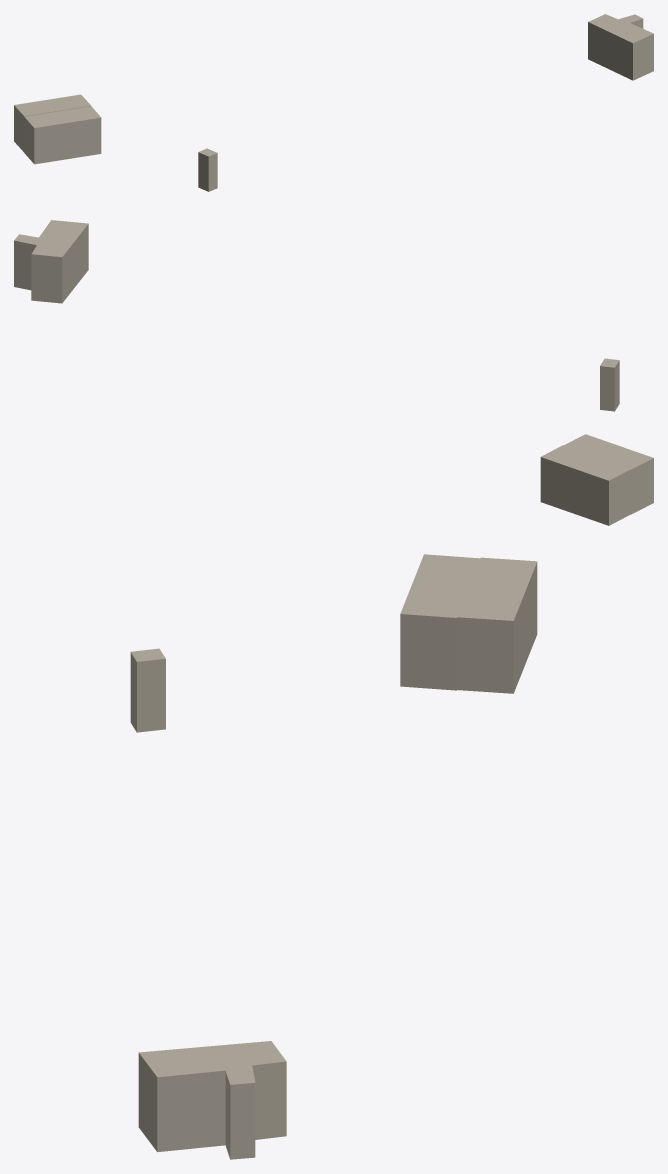
Rendered from kalkara_68_26_collision.glb.
3 renders of one model, top to bottom at view 1: azimuth 30°, elevation 25°; view 2: azimuth 150°, elevation 25°; view 3: azimuth 270°, elevation 25°, orthographic. The views are drawn at different scales.
Parts seen in each view (by area): view 1: geometry_0; view 2: geometry_0; view 3: geometry_0.
Part boxes in pixels (<box>): geometry_0: <box>14,14,653,191</box>; geometry_0: <box>14,220,653,525</box>; geometry_0: <box>130,554,537,1159</box>.
Size of the model in its own units: 169 by 12.83 by 53.04.
